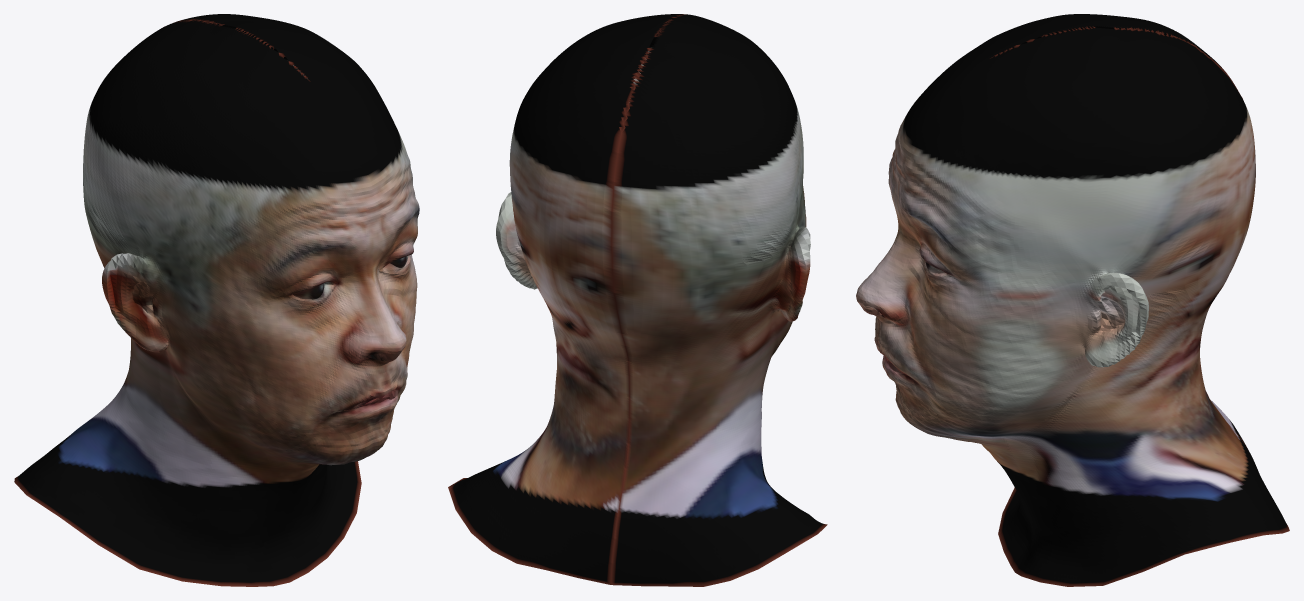
File: mesh_coarse_detail.obj
The picture shows the model from 3 angles, left to right: view 1: azimuth 30°, elevation 25°; view 2: azimuth 150°, elevation 25°; view 3: azimuth 270°, elevation 25°; orthographic projection.
Bounding box in the file's own units: 0.2151 × 0.3218 × 0.2377.
